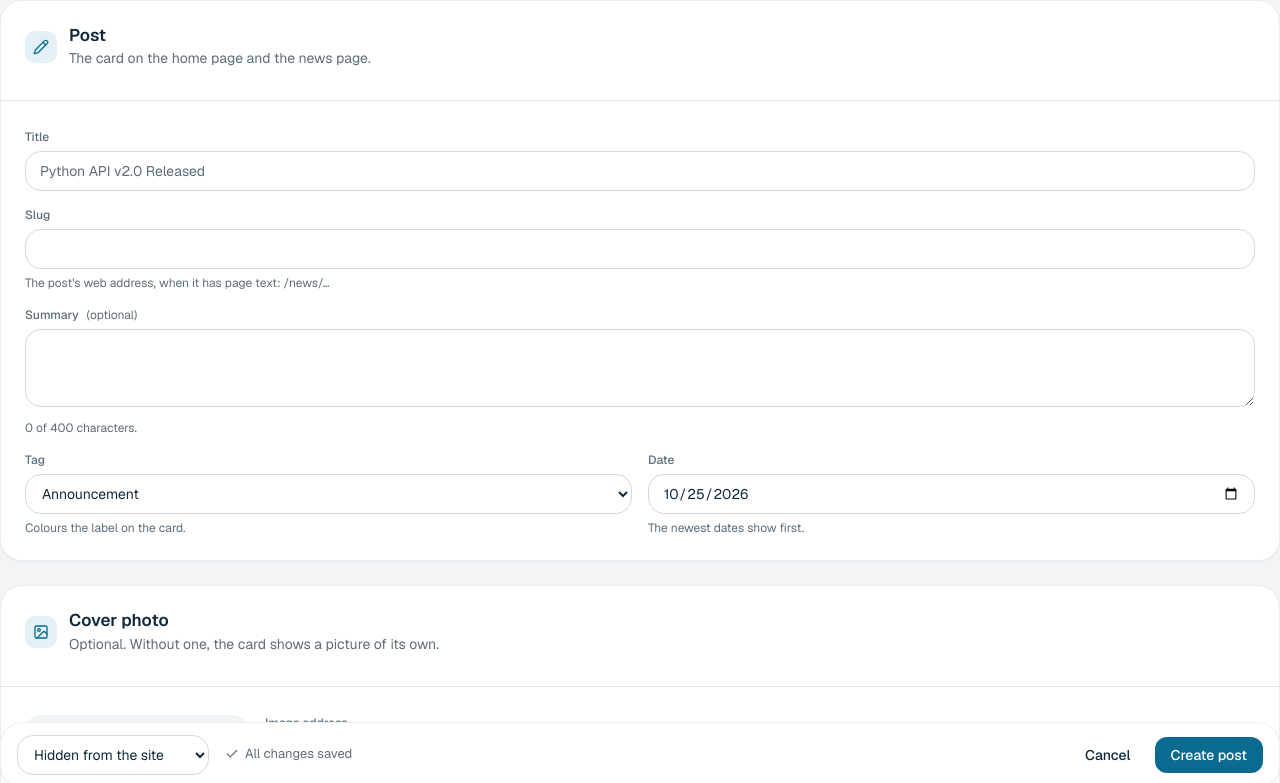
Test case: the news editor › puts a slug the backend refused beside the slug
The image size is (1280, 783).
Type "Taken" into the field labelled "Title" at (640, 171), box [25, 151, 1255, 191]
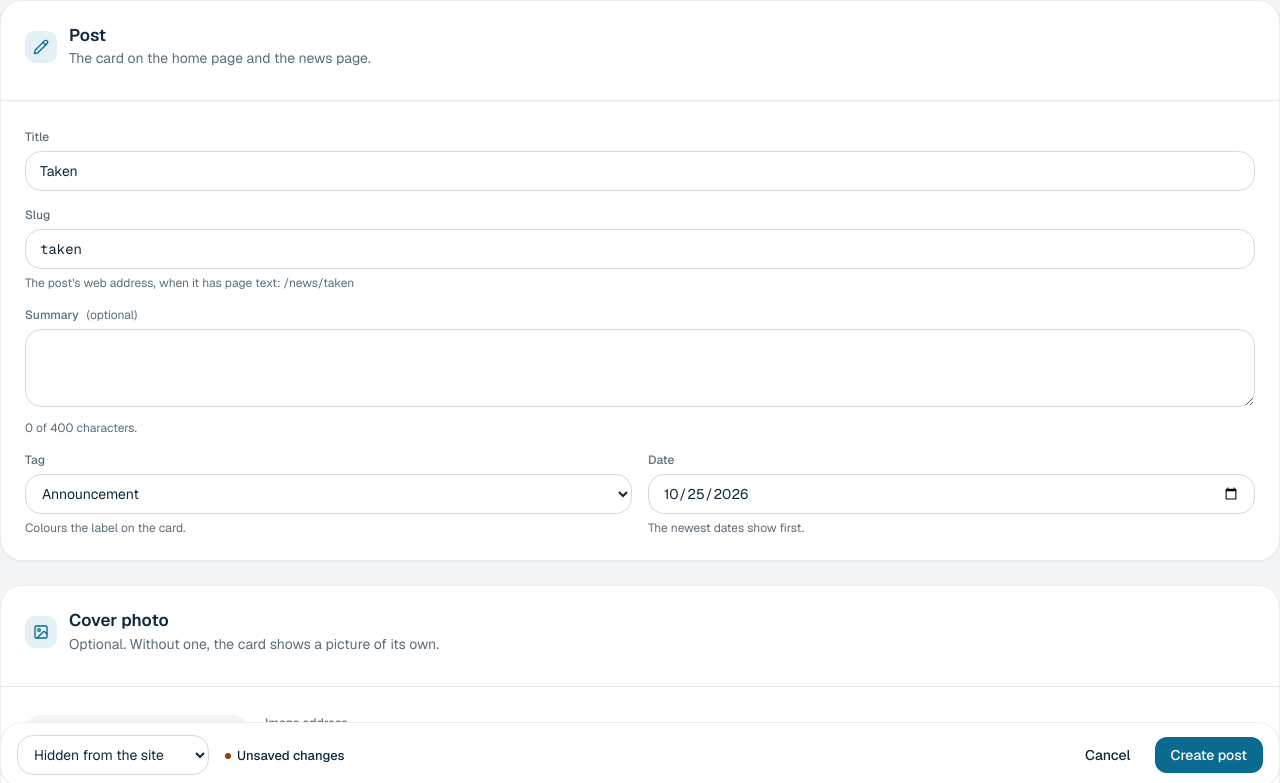
Click the button "Create post" at (1209, 755), box [1154, 737, 1263, 773]
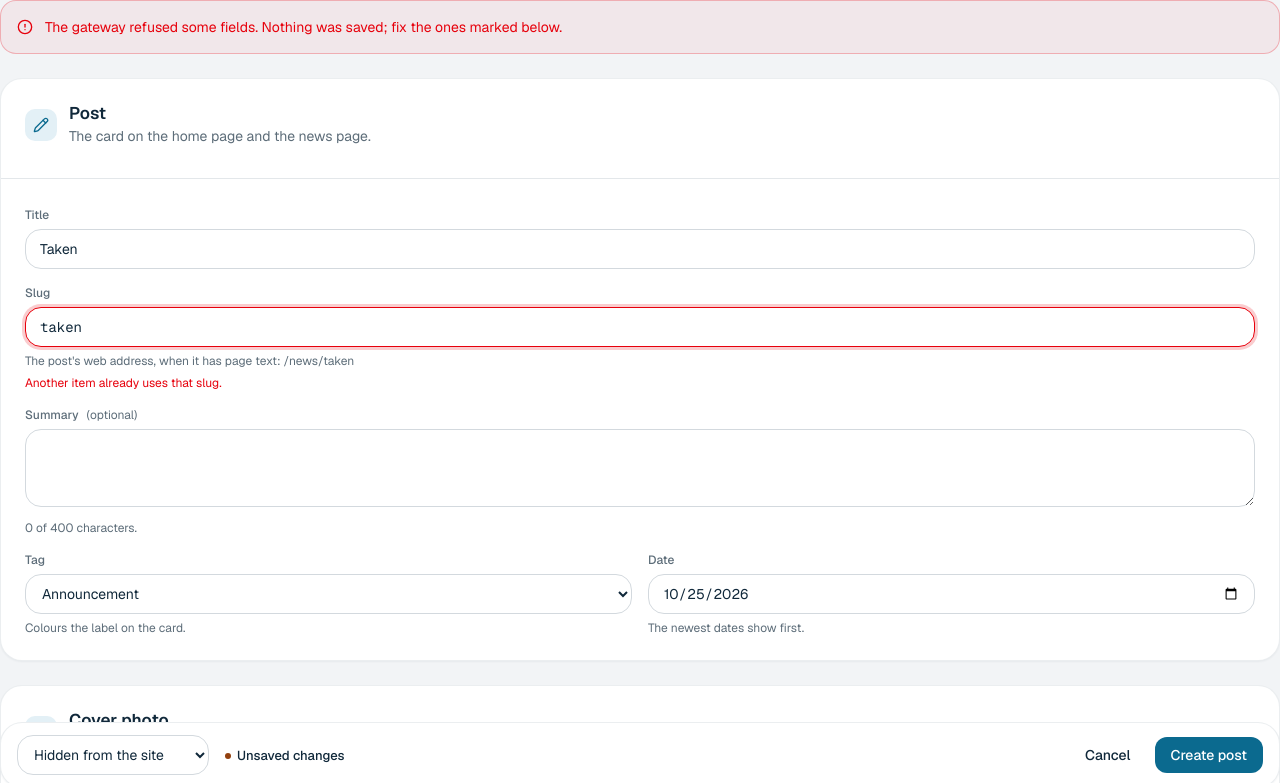
Expected: the text "Another item already uses that slug." is shown, [25, 375, 222, 391]
